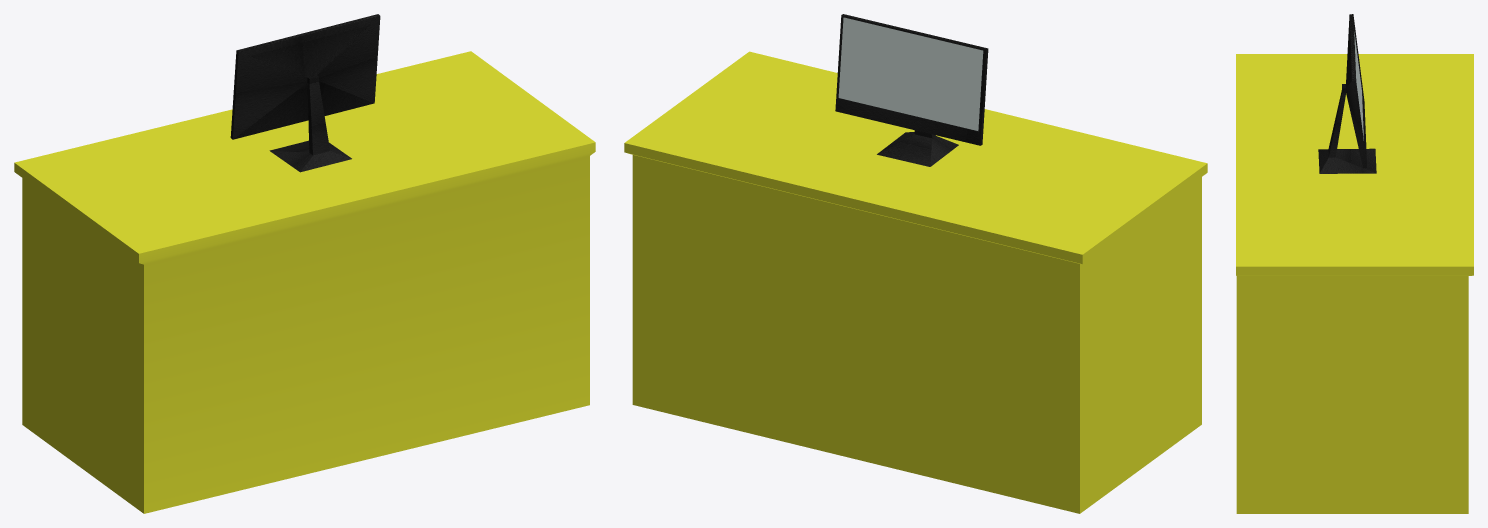
File: BuyingSide.fbx
3 views of the same model, side by side, from view 1: azimuth 30°, elevation 25°; view 2: azimuth 150°, elevation 25°; view 3: azimuth 270°, elevation 25° (orthographic). The views are drawn at different scales.
Parts seen in each view (by area): view 1: Cube; view 2: Cube; view 3: Cube.
Boxes of the visible parts, x1,y1,x2,y2 form: Cube: (14,14,595,513); Cube: (624,14,1207,513); Cube: (1236,14,1473,513).
Bounding box in the file's own units: 242 × 512 × 409.
Materials: 3 (1 with a texture image).
